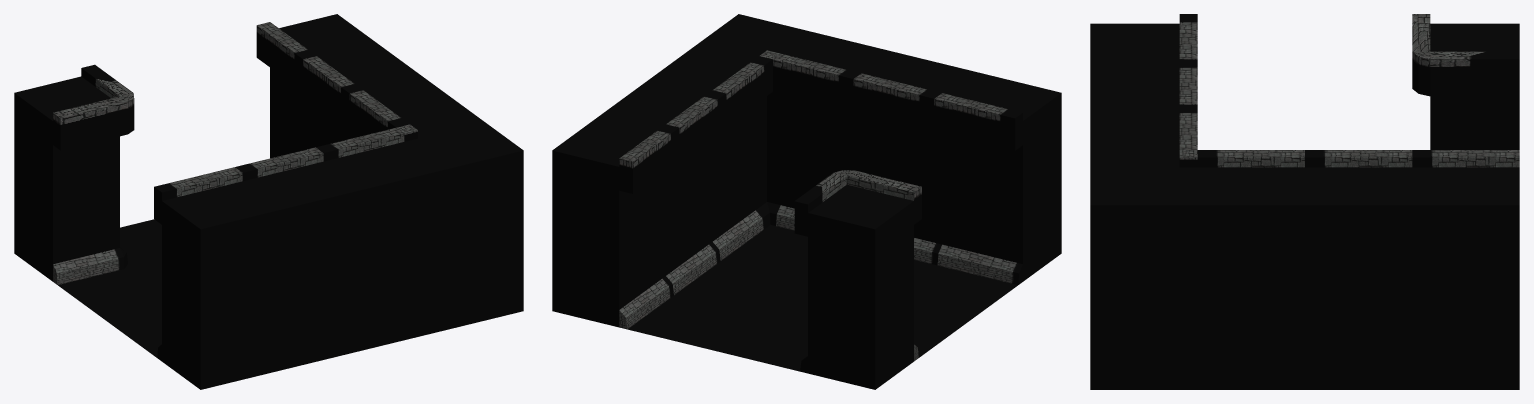
The model's file is Segment_Corner.FBX.
The picture shows the model from 3 angles, left to right: view 1: azimuth 30°, elevation 25°; view 2: azimuth 150°, elevation 25°; view 3: azimuth 270°, elevation 25°; orthographic projection. The views are drawn at different scales.
Parts seen in each view (by area): view 1: Piece_Straight009, Piece_OuterCorner005, Piece_Straight010, Piece_Straight011, Piece_InnerCorner, Piece_Straight014, Plane014, Piece_Straight013, Piece_Straight012; view 2: Piece_Straight009, Piece_OuterCorner005, Piece_Straight014, Plane014, Piece_Straight011, Piece_Straight010, Piece_Straight012, Piece_Straight013, Piece_InnerCorner; view 3: Piece_Straight012, Piece_Straight013, Piece_Straight014, Piece_InnerCorner, Piece_OuterCorner005, Piece_Straight010, Piece_Straight009, Piece_Straight011.
Part boxes in pixels (x1,y1,x2,y2): Piece_Straight009: [154, 167, 281, 389]; Piece_OuterCorner005: [14, 64, 134, 284]; Piece_Straight010: [235, 147, 362, 370]; Piece_Straight011: [316, 127, 442, 350]; Piece_InnerCorner: [397, 116, 523, 330]; Piece_Straight014: [256, 14, 383, 158]; Plane014: [58, 219, 161, 357]; Piece_Straight013: [303, 48, 429, 146]; Piece_Straight012: [349, 82, 476, 135]; Piece_Straight009: [934, 73, 1061, 284]; Piece_OuterCorner005: [794, 170, 921, 389]; Piece_Straight014: [552, 116, 679, 329]; Plane014: [627, 224, 1017, 371]; Piece_Straight011: [773, 33, 899, 230]; Piece_Straight010: [853, 53, 980, 265]; Piece_Straight012: [646, 48, 772, 260]; Piece_Straight013: [599, 82, 726, 294]; Piece_InnerCorner: [692, 14, 818, 226]; Piece_Straight012: [1197, 150, 1304, 389]; Piece_Straight013: [1305, 150, 1412, 389]; Piece_Straight014: [1412, 150, 1519, 389]; Piece_InnerCorner: [1090, 150, 1197, 389]; Piece_OuterCorner005: [1412, 14, 1519, 149]; Piece_Straight010: [1090, 59, 1197, 114]; Piece_Straight009: [1090, 14, 1197, 68]; Piece_Straight011: [1090, 104, 1197, 159].
Bounding box in the file's own units: 400 × 200 × 400.
